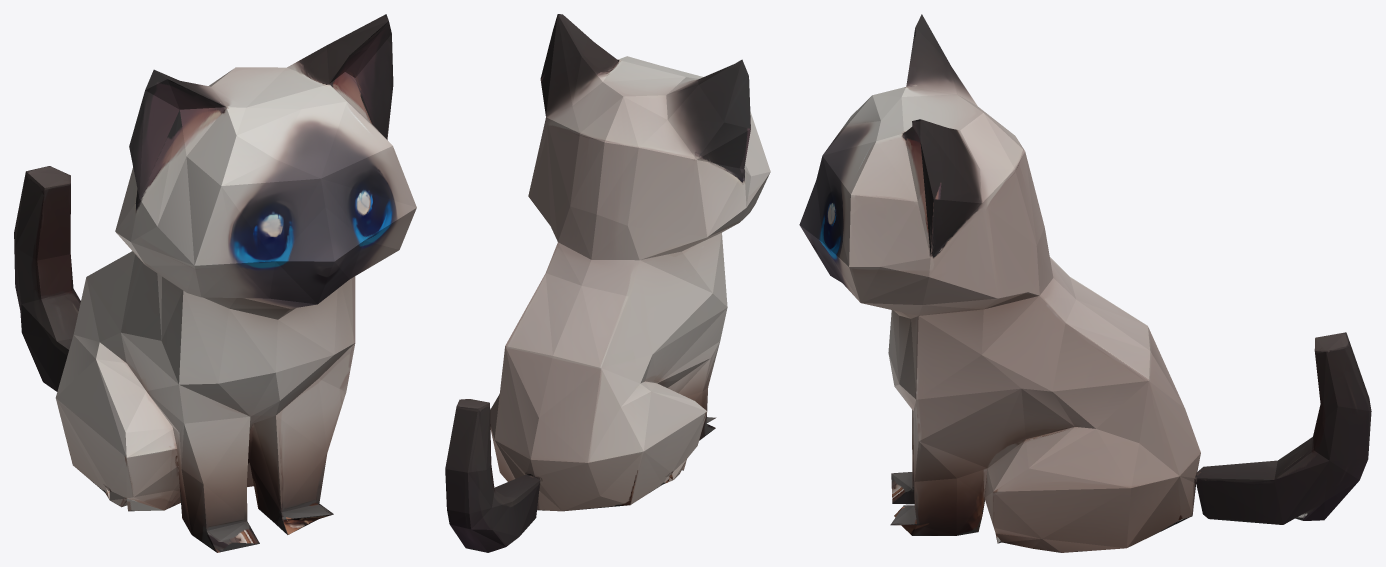
3 renders of one model, left to right at view 1: azimuth 30°, elevation 25°; view 2: azimuth 150°, elevation 25°; view 3: azimuth 270°, elevation 25°, orthographic. The views are drawn at different scales.
Parts seen in each view (by area): view 1: Figure; view 2: Figure; view 3: Figure.
Boxes of the visible parts, x1,y1,x2,y2 form: Figure: (14,14,416,552); Figure: (445,14,770,552); Figure: (799,14,1371,552).
Size of the model in its own units: 0.2222 by 0.3905 by 0.4505.
1 material, 1 textured.
